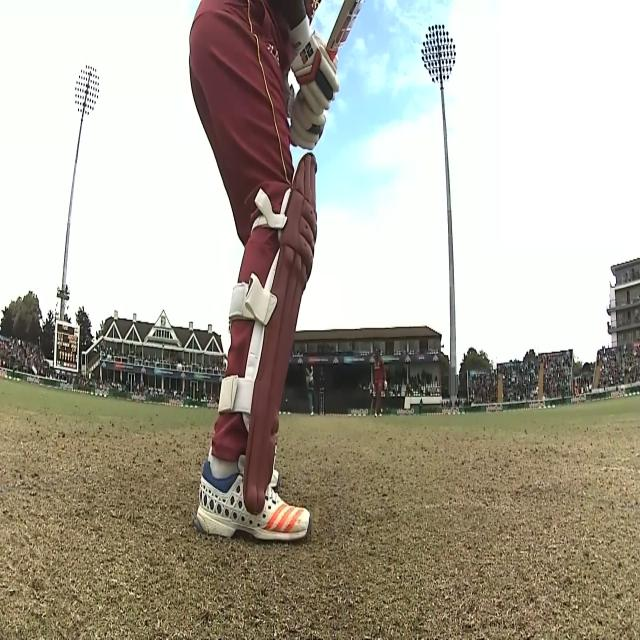ball: (311, 366, 313, 370)
